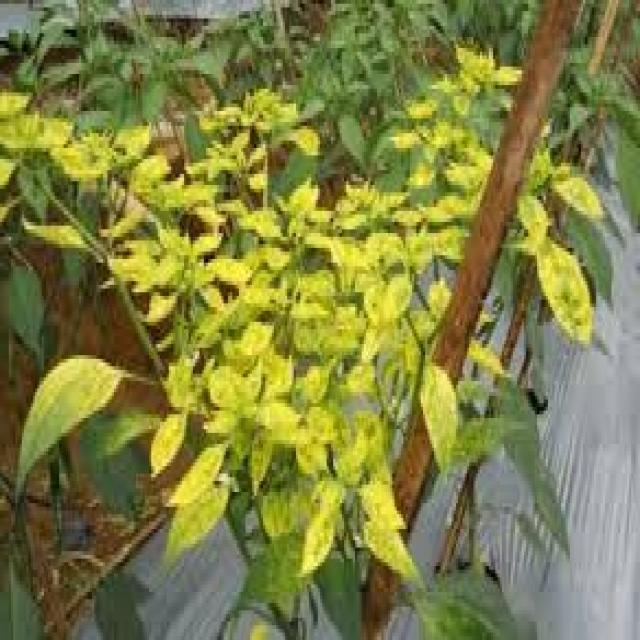virus_kuning: (11, 332, 120, 488), (534, 232, 597, 348), (418, 342, 462, 478), (164, 442, 234, 504), (148, 399, 192, 484), (296, 498, 332, 582)
